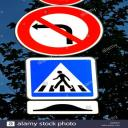NoVirarEsquerda: (13, 4, 107, 58)
